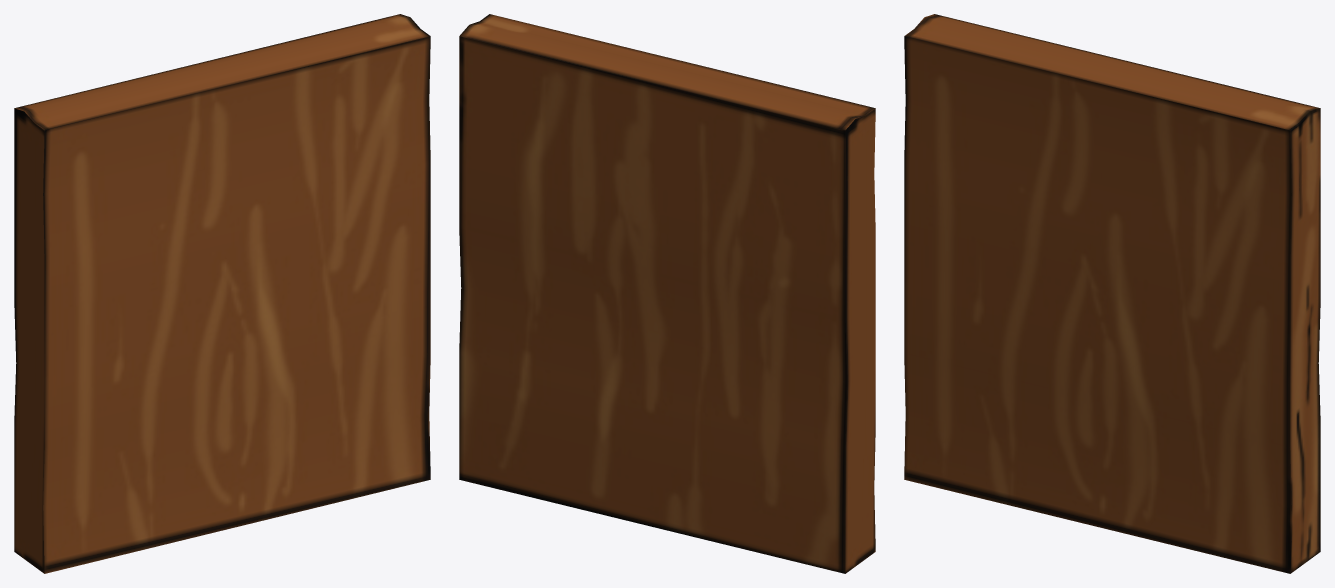
Rendered from Wood.fbx.
3 views of the same model, side by side, from view 1: azimuth 30°, elevation 25°; view 2: azimuth 150°, elevation 25°; view 3: azimuth 330°, elevation 25° (orthographic).
Parts seen in each view (by area): view 1: pCube1; view 2: pCube1; view 3: pCube1.
Boxes of the visible parts, x1,y1,x2,y2 form: pCube1: (14,14,430,573); pCube1: (459,14,875,573); pCube1: (904,14,1320,573).
Size of the model in its own units: 13.1 by 14.51 by 1.78.
